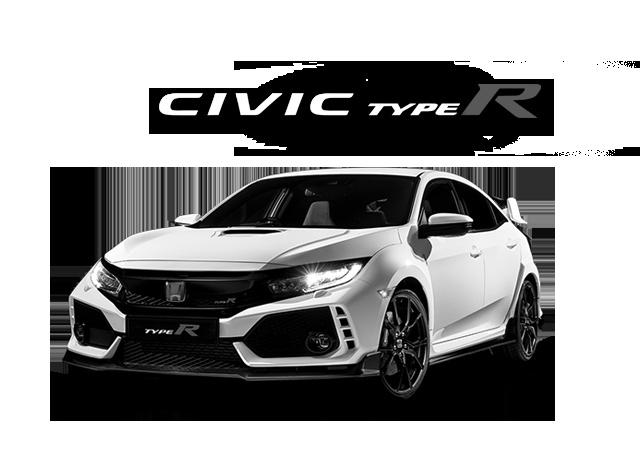Car hood: (94, 224, 402, 274)
Fender - -F-L-: (362, 227, 435, 336)
Front bumper: (65, 274, 389, 383)
Headlight - -L-: (260, 253, 369, 298)
Headlight - -R-: (90, 255, 124, 304)
Passenger-s door - -F-L-: (417, 169, 498, 371)
Passenger-s door - -R-L-: (459, 169, 524, 369)
Side bumper - -L-: (423, 303, 524, 380)
Side mirror - -L-: (415, 212, 475, 244)
Side mirror - -R-: (173, 212, 203, 227)
